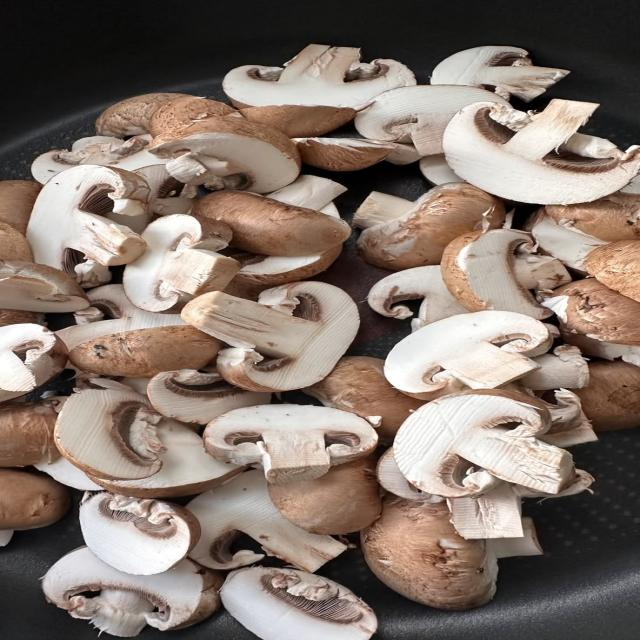champignon mushrooms: (443, 99, 639, 204), (394, 390, 573, 498), (182, 282, 359, 391), (42, 547, 222, 637), (187, 471, 346, 572), (32, 135, 195, 232), (361, 496, 498, 609), (385, 311, 554, 399), (27, 165, 148, 286), (204, 404, 378, 484), (358, 183, 505, 270), (447, 470, 593, 557), (93, 419, 244, 498), (223, 45, 415, 107), (441, 229, 571, 319), (149, 116, 300, 193), (123, 215, 240, 312), (220, 568, 377, 639), (355, 84, 508, 156), (193, 190, 351, 256), (304, 356, 423, 442), (55, 388, 165, 479), (80, 492, 199, 575), (527, 193, 639, 273), (269, 456, 380, 535), (57, 285, 185, 350), (69, 325, 220, 377), (431, 46, 569, 101), (147, 369, 271, 424), (542, 278, 639, 345), (32, 136, 166, 184), (368, 265, 466, 330), (232, 245, 342, 293), (527, 208, 607, 274), (0, 324, 66, 401), (233, 245, 341, 290), (574, 360, 640, 431), (0, 261, 89, 312), (447, 482, 524, 539), (0, 469, 70, 530), (96, 93, 193, 137), (239, 105, 356, 138), (0, 403, 59, 467), (377, 448, 445, 502), (148, 96, 235, 137), (584, 240, 639, 301), (540, 389, 597, 447), (296, 138, 394, 171), (520, 345, 588, 390), (267, 175, 346, 210), (563, 331, 639, 366), (34, 456, 102, 490), (353, 192, 413, 229), (0, 181, 40, 234), (419, 154, 463, 185), (0, 222, 32, 261), (0, 309, 44, 327), (386, 143, 420, 165)
